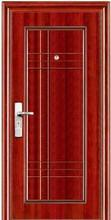door: (1, 4, 110, 219)
